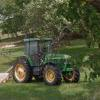Tractor: (13, 32, 84, 94)
